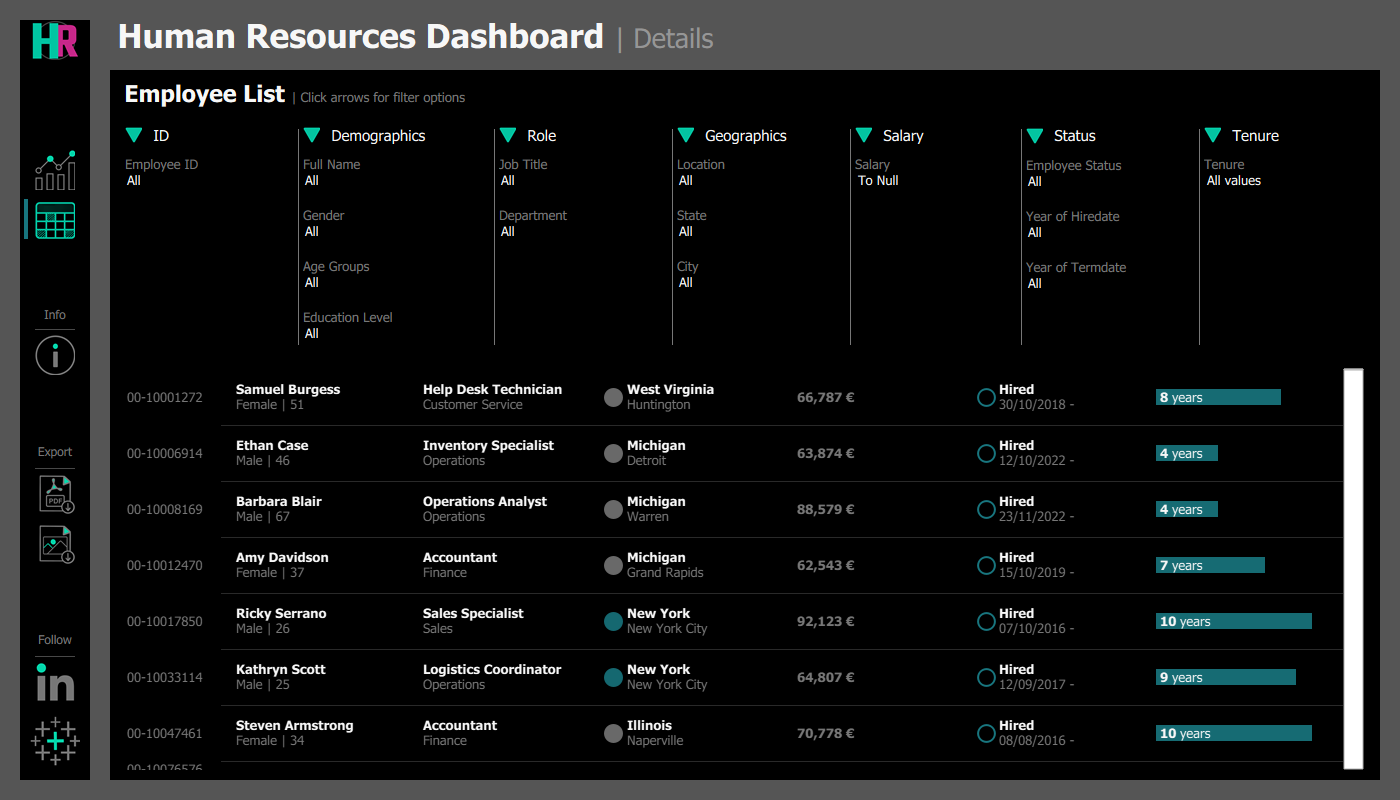

What the dashboard file says about the page in this screenshot:
{"tool":"tableau","page":{"name":"HR | Details","canvas":[1400,800],"ordinal":0},"visuals":[{"type":"blank","box":[87,0,1314,230]},{"type":"text","box":[110,0,1270,70]},{"type":"image","param":"Image/Logo.png","box":[20,20,70,40]},{"type":"blank","box":[20,60,70,80]},{"type":"text","box":[117,77,1256,38]},{"type":"dashboard-object","box":[121,119,25,32]},{"type":"text","box":[146,119,152.2,32]},{"type":"blank","box":[298.2,119,1,236]},{"type":"dashboard-object","box":[299.2,119,25,32]},{"type":"text","box":[324.1,119,170,32]},{"type":"blank","box":[494.2,119,1,236]},{"type":"dashboard-object","box":[495.2,119,25,32]},{"type":"text","box":[520.1,119,152.2,32]},{"type":"blank","box":[672.3,119,1,236]},{"type":"dashboard-object","box":[673.3,119,25,32]},{"type":"text","box":[698.3,119,152.2,32]},{"type":"blank","box":[850.5,119,1,236]},{"type":"dashboard-object","box":[851.5,119,25,32]},{"type":"text","box":[876.4,119,144.2,32]},{"type":"blank","box":[1020.6,119,1,236]},{"type":"dashboard-object","box":[1021.6,119,25,33]},{"type":"text","box":[1046.6,119,152.2,33]},{"type":"blank","box":[1198.8,119,1,236]},{"type":"dashboard-object","box":[1199.8,119,25,32]},{"type":"text","box":[1224.7,119,144.2,32]},{"type":"dashboard-object","box":[30,150,50,40]},{"type":"filter","title":"Employees List","param":"[federated.09x1m5c1q1dy1k1cbhton0vexwm2].[none:Employee_ID:nk]","box":[121,151,177.2,51]},{"type":"filter","title":"Employees List","param":"[federated.09x1m5c1q1dy1k1cbhton0vexwm2].[none:Calculation_1783425489839145001:n","box":[299.2,151,195,51]},{"type":"filter","title":"Employees List","param":"[federated.09x1m5c1q1dy1k1cbhton0vexwm2].[none:Job Title:nk]","box":[495.2,151,177.2,51]},{"type":"filter","title":"Employees List","param":"[federated.09x1m5c1q1dy1k1cbhton0vexwm2].[none:Calculation_1088745234686869511:n","box":[673.3,151,177.2,51]},{"type":"filter","title":"Employees List","param":"[federated.09x1m5c1q1dy1k1cbhton0vexwm2].[none:Salary:qk]","box":[851.5,151,169.2,68]},{"type":"filter","title":"Employees List","param":"[federated.09x1m5c1q1dy1k1cbhton0vexwm2].[sum:Calculation_1783425489848176683:qk","box":[1199.8,151,169.2,68]},{"type":"filter","title":"Employees List","param":"[federated.09x1m5c1q1dy1k1cbhton0vexwm2].[none:Calculation_1783425489573556236:n","box":[1021.6,152,177.2,51]},{"type":"blank","box":[30,190,50,10]},{"type":"blank","box":[24,199,4,40]},{"type":"dashboard-object","box":[30,200,50,40]},{"type":"filter","title":"Employees List","param":"[federated.09x1m5c1q1dy1k1cbhton0vexwm2].[none:Gender:nk]","box":[299.2,202,195,51]},{"type":"filter","title":"Employees List","param":"[federated.09x1m5c1q1dy1k1cbhton0vexwm2].[none:Department:nk]","box":[495.2,202,177.2,51]},{"type":"filter","title":"Employees List","param":"[federated.09x1m5c1q1dy1k1cbhton0vexwm2].[none:State:nk]","box":[673.3,202,177.2,51]},{"type":"filter","title":"Employees List","param":"[federated.09x1m5c1q1dy1k1cbhton0vexwm2].[none:Hiredate:ok]","box":[1021.6,203,177.2,51]},{"type":"text","box":[87,230,1314,251]},{"type":"blank","box":[30,240,50,64.3]},{"type":"filter","title":"Employees List","param":"[federated.09x1m5c1q1dy1k1cbhton0vexwm2].[none:Calculation_1783425489475239946:n","box":[299.2,253,195,51]},{"type":"filter","title":"Employees List","param":"[federated.09x1m5c1q1dy1k1cbhton0vexwm2].[none:City:nk]","box":[673.3,253,177.2,51]},{"type":"filter","title":"Employees List","param":"[federated.09x1m5c1q1dy1k1cbhton0vexwm2].[none:Termdate:ok]","box":[1021.6,254,177.2,51]},{"type":"filter","title":"Employees List","param":"[federated.09x1m5c1q1dy1k1cbhton0vexwm2].[none:Education Level:nk]","box":[299.2,304,195,51]},{"type":"text","box":[30,304.3,50,20]},{"type":"blank","box":[30,324.3,50,11]},{"type":"dashboard-object","box":[30,335.3,50,40]},{"type":"worksheet","title":"Employees List","mark":"Shape","rows":["Employee_ID"],"cols":["Calculation_1783425489838923816","Calculation_1783425489838923816","Calculation_1783425489838923816","Calculation_1783425489838923816","Calculation_1783425489838923816","Calculation_1783425489848176683"],"box":[117,365,1256,408]},{"type":"blank","box":[30,375.3,50,64.3]},{"type":"text","box":[30,439.7,50,23]},{"type":"blank","box":[30,462.7,50,11]},{"type":"dashboard-object","box":[30,473.7,50,40]},{"type":"blank","box":[87,481,1314,319]},{"type":"blank","box":[30,513.7,50,10]},{"type":"dashboard-object","box":[30,523.7,50,40]},{"type":"blank","box":[30,563.7,50,64.3]},{"type":"text","box":[30,628,50,23]},{"type":"blank","box":[30,651,50,11]},{"type":"image","param":"Image/contact-linkedin.png","box":[30,662,50,40]},{"type":"blank","box":[30,702,50,10]},{"type":"image","param":"Image/contact-public.png","box":[30,712,50,58]}]}

Visuals, with their boxes on the page's 1400x800 design canvas (x1, y1, x2, y2). These are canvas units, not pixel positions in the 1400x800 screenshot, which may show the page scaled, cropped or inside an application window:
blank: rect(87, 0, 1401, 230)
text: rect(110, 0, 1380, 70)
image: rect(20, 20, 90, 60)
blank: rect(20, 60, 90, 140)
text: rect(117, 77, 1373, 115)
dashboard-object: rect(121, 119, 146, 151)
text: rect(146, 119, 298, 151)
blank: rect(298, 119, 299, 355)
dashboard-object: rect(299, 119, 324, 151)
text: rect(324, 119, 494, 151)
blank: rect(494, 119, 495, 355)
dashboard-object: rect(495, 119, 520, 151)
text: rect(520, 119, 672, 151)
blank: rect(672, 119, 673, 355)
dashboard-object: rect(673, 119, 698, 151)
text: rect(698, 119, 850, 151)
blank: rect(850, 119, 852, 355)
dashboard-object: rect(852, 119, 876, 151)
text: rect(876, 119, 1021, 151)
blank: rect(1021, 119, 1022, 355)
dashboard-object: rect(1022, 119, 1047, 152)
text: rect(1047, 119, 1199, 152)
blank: rect(1199, 119, 1200, 355)
dashboard-object: rect(1200, 119, 1225, 151)
text: rect(1225, 119, 1369, 151)
dashboard-object: rect(30, 150, 80, 190)
"Employees List" filter: rect(121, 151, 298, 202)
"Employees List" filter: rect(299, 151, 494, 202)
"Employees List" filter: rect(495, 151, 672, 202)
"Employees List" filter: rect(673, 151, 850, 202)
"Employees List" filter: rect(852, 151, 1021, 219)
"Employees List" filter: rect(1200, 151, 1369, 219)
"Employees List" filter: rect(1022, 152, 1199, 203)
blank: rect(30, 190, 80, 200)
blank: rect(24, 199, 28, 239)
dashboard-object: rect(30, 200, 80, 240)
"Employees List" filter: rect(299, 202, 494, 253)
"Employees List" filter: rect(495, 202, 672, 253)
"Employees List" filter: rect(673, 202, 850, 253)
"Employees List" filter: rect(1022, 203, 1199, 254)
text: rect(87, 230, 1401, 481)
blank: rect(30, 240, 80, 304)
"Employees List" filter: rect(299, 253, 494, 304)
"Employees List" filter: rect(673, 253, 850, 304)
"Employees List" filter: rect(1022, 254, 1199, 305)
"Employees List" filter: rect(299, 304, 494, 355)
text: rect(30, 304, 80, 324)
blank: rect(30, 324, 80, 335)
dashboard-object: rect(30, 335, 80, 375)
"Employees List" worksheet (Shape marks): rect(117, 365, 1373, 773)
blank: rect(30, 375, 80, 440)
text: rect(30, 440, 80, 463)
blank: rect(30, 463, 80, 474)
dashboard-object: rect(30, 474, 80, 514)
blank: rect(87, 481, 1401, 800)
blank: rect(30, 514, 80, 524)
dashboard-object: rect(30, 524, 80, 564)
blank: rect(30, 564, 80, 628)
text: rect(30, 628, 80, 651)
blank: rect(30, 651, 80, 662)
image: rect(30, 662, 80, 702)
blank: rect(30, 702, 80, 712)
image: rect(30, 712, 80, 770)
